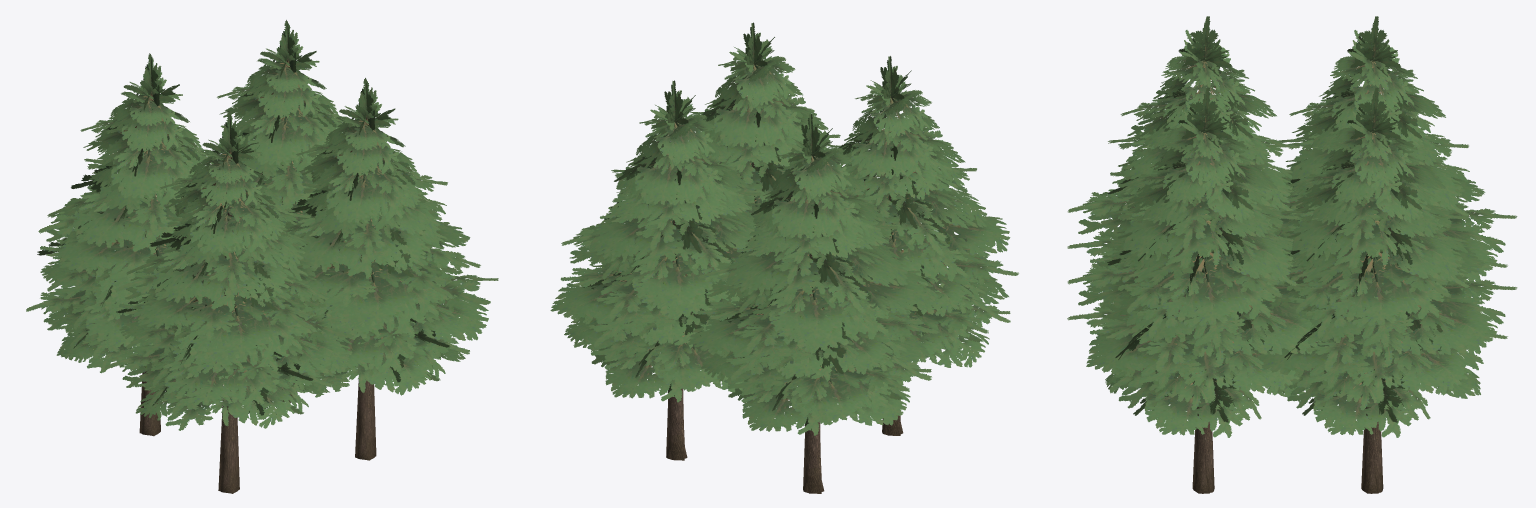
Rendered from Tree_FirTreeCx4 (23).fbx.
3 renders of one model, left to right at view 1: azimuth 30°, elevation 25°; view 2: azimuth 150°, elevation 25°; view 3: azimuth 270°, elevation 25°, orthographic. The views are drawn at different scales.
Visible parts, largest first — view 1: Leaf01, Leaf01_Bmap, Leaf01_2, Leaf01_LOD2_2, Leaf01_1, Leaf01_Bmap_2, Leaf01_LOD2_1, Leaf01_LOD1_2, Leaf01_Bmap_1, Leaf01_LOD1_1, Leaf01_3, Leaf01_LOD2_3 (+4 smaller); view 2: Leaf01_1, Leaf01_3, Leaf01, Leaf01_LOD2_1, Leaf01_Bmap, Leaf01_LOD2_3, Leaf01_Bmap_1, Leaf01_LOD1_1, Leaf01_Bmap_3, Leaf01_LOD1_3, Leaf01_2, Leaf01_LOD2_2 (+4 smaller); view 3: Leaf01_3, Leaf01_2, Leaf01_LOD2_2, Leaf01_LOD2_3, Leaf01_Bmap_3, Leaf01_Bmap_2, Leaf01_LOD1_2, Leaf01_LOD1_3, Leaf01, Leaf01_Bmap, Leaf01_1, Leaf01_LOD2_1 (+4 smaller).
Part boxes in pixels (left/top/right/bottom): Leaf01: left=105, top=115, right=351, bottom=430; Leaf01_Bmap: left=105, top=111, right=353, bottom=430; Leaf01_2: left=288, top=78, right=488, bottom=397; Leaf01_LOD2_2: left=288, top=106, right=491, bottom=394; Leaf01_1: left=39, top=54, right=213, bottom=372; Leaf01_Bmap_2: left=279, top=78, right=498, bottom=397; Leaf01_LOD2_1: left=27, top=82, right=247, bottom=367; Leaf01_LOD1_2: left=283, top=79, right=498, bottom=395; Leaf01_Bmap_1: left=26, top=53, right=216, bottom=373; Leaf01_LOD1_1: left=26, top=54, right=211, bottom=372; Leaf01_3: left=216, top=24, right=343, bottom=256; Leaf01_LOD2_3: left=214, top=48, right=382, bottom=326; Leaf01_1: left=687, top=114, right=933, bottom=435; Leaf01_3: left=551, top=80, right=761, bottom=402; Leaf01: left=828, top=56, right=1018, bottom=367; Leaf01_LOD2_1: left=688, top=126, right=938, bottom=433; Leaf01_Bmap: left=828, top=56, right=1018, bottom=367; Leaf01_LOD2_3: left=551, top=93, right=758, bottom=399; Leaf01_Bmap_1: left=698, top=114, right=939, bottom=435; Leaf01_LOD1_1: left=687, top=117, right=939, bottom=434; Leaf01_Bmap_3: left=561, top=81, right=761, bottom=402; Leaf01_LOD1_3: left=550, top=92, right=758, bottom=401; Leaf01_2: left=692, top=22, right=837, bottom=232; Leaf01_LOD2_2: left=690, top=35, right=840, bottom=234; Leaf01_3: left=1255, top=87, right=1507, bottom=437; Leaf01_2: left=1068, top=88, right=1330, bottom=437; Leaf01_LOD2_2: left=1067, top=106, right=1318, bottom=435; Leaf01_LOD2_3: left=1257, top=106, right=1504, bottom=435; Leaf01_Bmap_3: left=1255, top=87, right=1517, bottom=437; Leaf01_Bmap_2: left=1067, top=87, right=1319, bottom=437; Leaf01_LOD1_2: left=1067, top=101, right=1330, bottom=437; Leaf01_LOD1_3: left=1259, top=101, right=1516, bottom=437; Leaf01: left=1067, top=16, right=1299, bottom=310; Leaf01_Bmap: left=1067, top=16, right=1300, bottom=299; Leaf01_1: left=1273, top=16, right=1507, bottom=323; Leaf01_LOD2_1: left=1266, top=35, right=1505, bottom=296.
Size of what is drawn, in the model's own units: 602 by 575 by 594.
2 materials, 2 textured.
